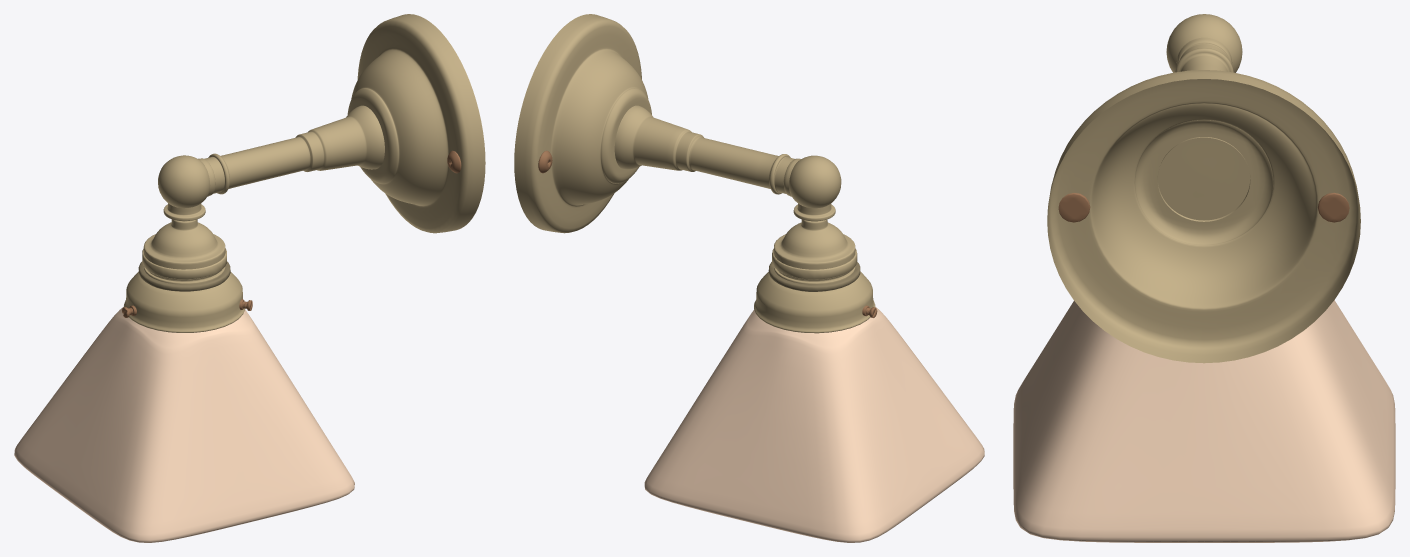
Rendered from Wall Lamp.fbx.
3 renders of one model, left to right at view 1: azimuth 30°, elevation 25°; view 2: azimuth 150°, elevation 25°; view 3: azimuth 270°, elevation 25°, orthographic. The views are drawn at different scales.
Visible parts, largest first — view 1: Glass Shroud, Lamp Base, Main Body, Shaft, Joint, Thumb Wheel 2, Thumb Wheel 1; view 2: Glass Shroud, Lamp Base, Main Body, Shaft, Joint, Thumb Wheel 2, Thumb Wheel 1; view 3: Glass Shroud, Lamp Base, Joint, Shaft, Base Screws.
Boxes of the visible parts, x1=… form: Glass Shroud: x1=14, y1=306, x2=354, y2=542; Lamp Base: x1=347, y1=14, x2=485, y2=233; Main Body: x1=124, y1=203, x2=244, y2=332; Shaft: x1=198, y1=105, x2=384, y2=196; Joint: x1=158, y1=155, x2=210, y2=208; Thumb Wheel 2: x1=142, y1=248, x2=226, y2=279; Thumb Wheel 1: x1=138, y1=261, x2=230, y2=291; Glass Shroud: x1=644, y1=307, x2=984, y2=542; Lamp Base: x1=514, y1=14, x2=651, y2=233; Main Body: x1=754, y1=203, x2=875, y2=333; Shaft: x1=614, y1=105, x2=801, y2=196; Joint: x1=789, y1=155, x2=841, y2=208; Thumb Wheel 2: x1=772, y1=249, x2=857, y2=279; Thumb Wheel 1: x1=768, y1=261, x2=860, y2=291; Glass Shroud: x1=1013, y1=300, x2=1395, y2=542; Lamp Base: x1=1047, y1=70, x2=1360, y2=363; Joint: x1=1166, y1=14, x2=1242, y2=72; Shaft: x1=1157, y1=37, x2=1250, y2=221; Base Screws: x1=1058, y1=192, x2=1349, y2=222.
Bounding box in the file's own units: 153 × 159 × 99.
